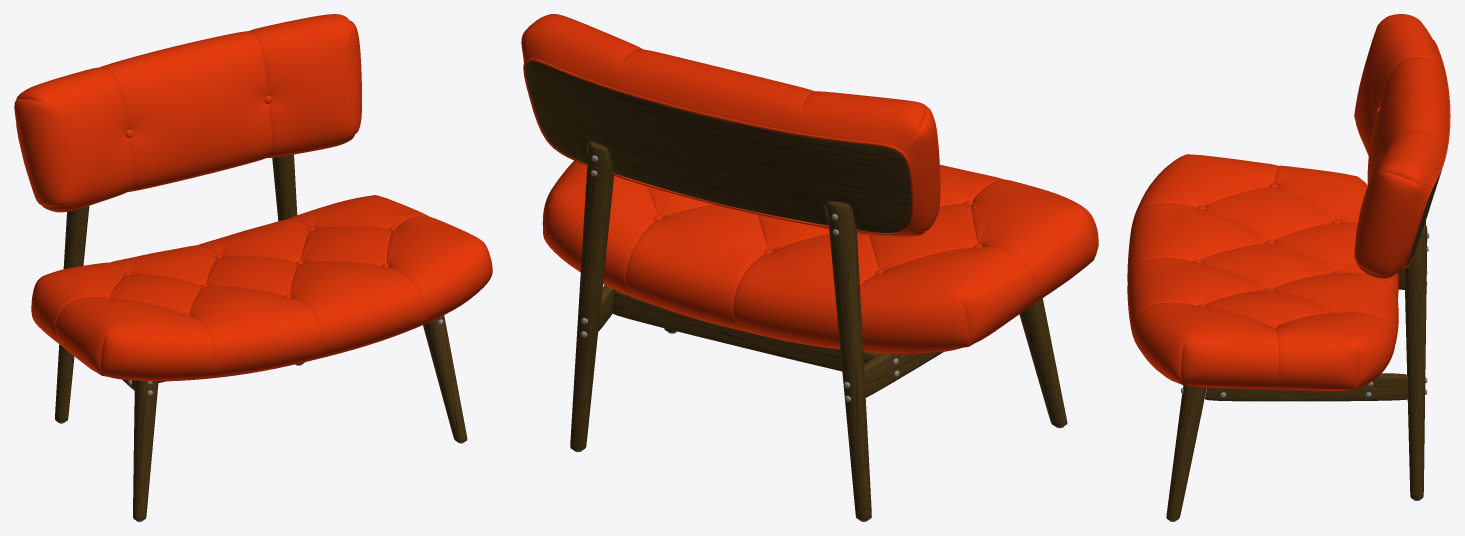
The model's file is lounge.glb.
3 renders of one model, left to right at view 1: azimuth 30°, elevation 25°; view 2: azimuth 150°, elevation 25°; view 3: azimuth 270°, elevation 25°, orthographic. The views are drawn at different scales.
Visible parts, largest first — view 1: Fabric, Frame; view 2: Fabric, Frame; view 3: Fabric, Frame.
Part boxes in pixels (<box>): Fabric: <box>14,14,492,381</box>; Frame: <box>55,154,467,520</box>; Fabric: <box>521,14,1098,354</box>; Frame: <box>525,61,1067,520</box>; Fabric: <box>1127,14,1450,391</box>; Frame: <box>1166,170,1441,520</box>.
Bounding box in the file's own units: 0.8266 × 0.6862 × 0.5703.
Materials: 3 (2 with a texture image).
